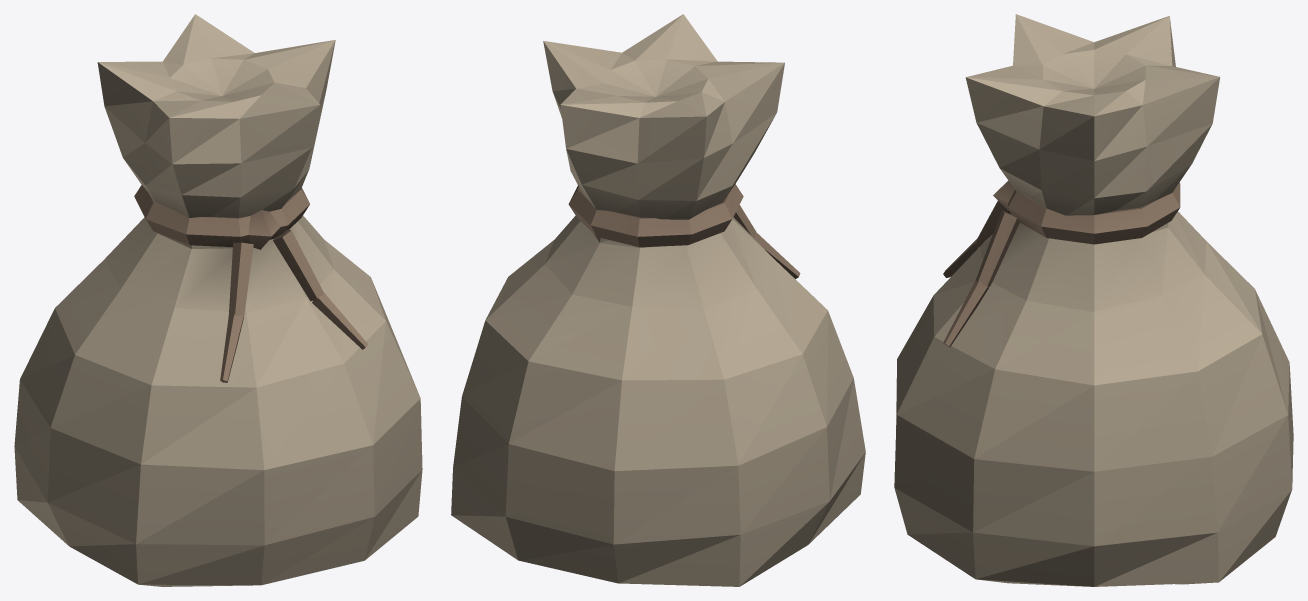
The model's file is sack.glb.
3 renders of one model, left to right at view 1: azimuth 30°, elevation 25°; view 2: azimuth 150°, elevation 25°; view 3: azimuth 270°, elevation 25°, orthographic. The views are drawn at different scales.
Parts seen in each view (by area): view 1: sack; view 2: sack; view 3: sack.
Boxes of the visible parts, bbox=[...] form: sack: bbox=[14, 14, 422, 586]; sack: bbox=[451, 14, 865, 586]; sack: bbox=[894, 14, 1293, 586].
Size of the model in its own units: 0.5799 by 0.7264 by 0.555.
